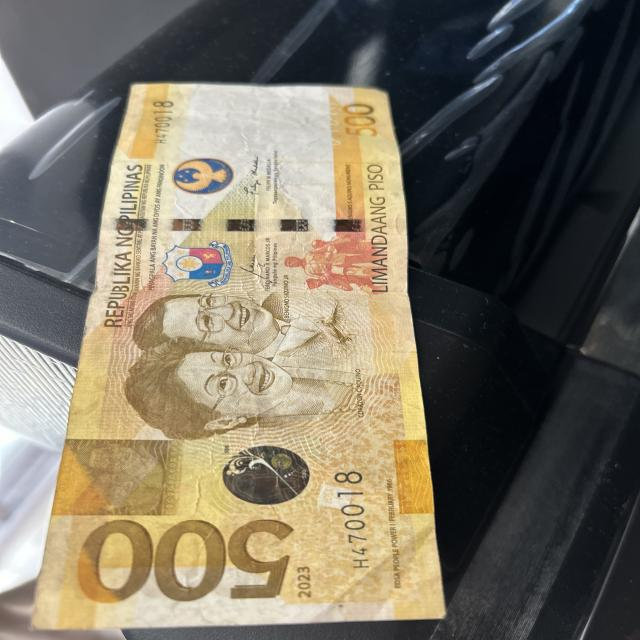concealed_value: (64, 436, 179, 513)
optically_variable_device: (217, 443, 311, 508)
